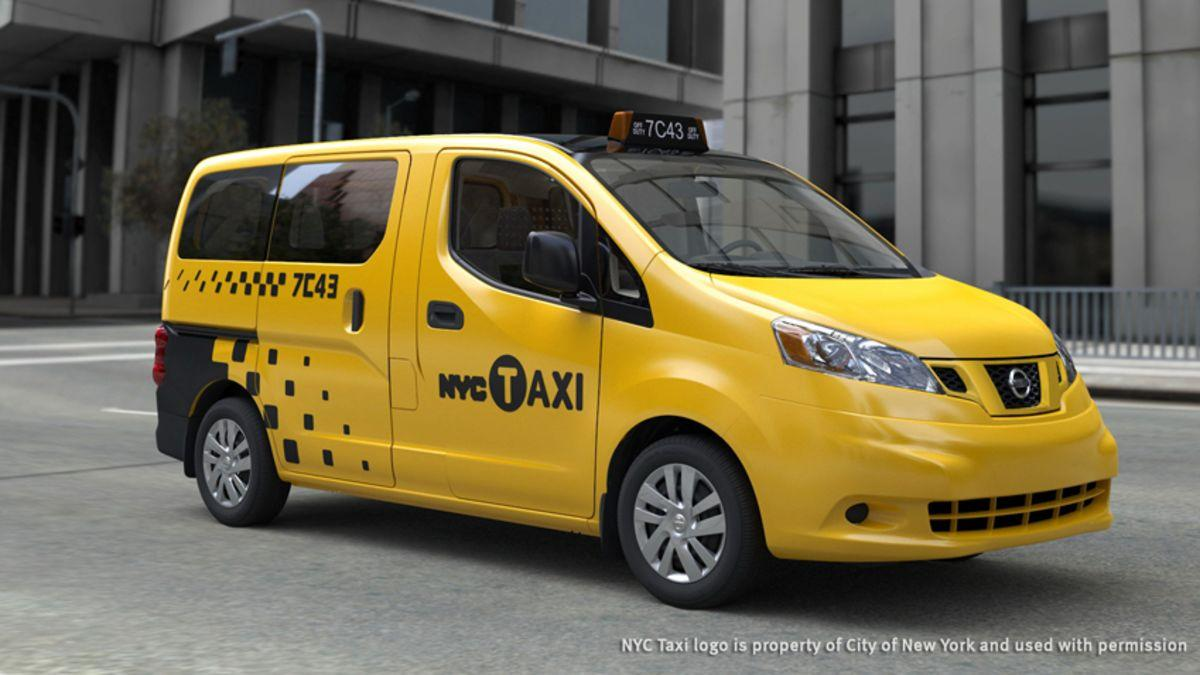taxi: (153, 85, 1139, 616)
